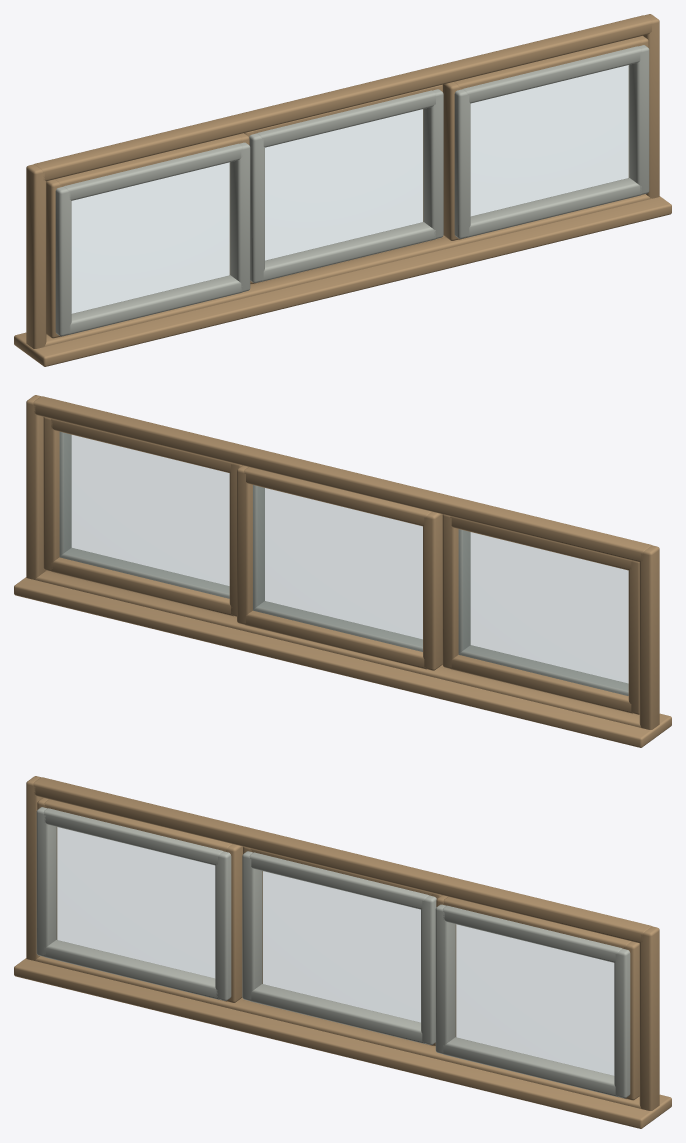
Rendered from window-clerestory.glb.
3 renders of one model, top to bottom at view 1: azimuth 30°, elevation 25°; view 2: azimuth 150°, elevation 25°; view 3: azimuth 330°, elevation 25°, orthographic.
Parts seen in each view (by area): view 1: catalog_surface_RealismUV, catalog_surface_UVMap; view 2: catalog_surface_RealismUV, catalog_surface_UVMap; view 3: catalog_surface_RealismUV, catalog_surface_UVMap.
Boxes of the visible parts, x1,y1,x2,y2 form: catalog_surface_RealismUV: [14, 14, 671, 366]; catalog_surface_UVMap: [72, 65, 629, 313]; catalog_surface_RealismUV: [14, 395, 671, 747]; catalog_surface_UVMap: [60, 432, 628, 695]; catalog_surface_RealismUV: [14, 776, 671, 1128]; catalog_surface_UVMap: [56, 827, 613, 1075].
Bounding box in the file's own units: 2.1 × 0.6 × 0.18.
